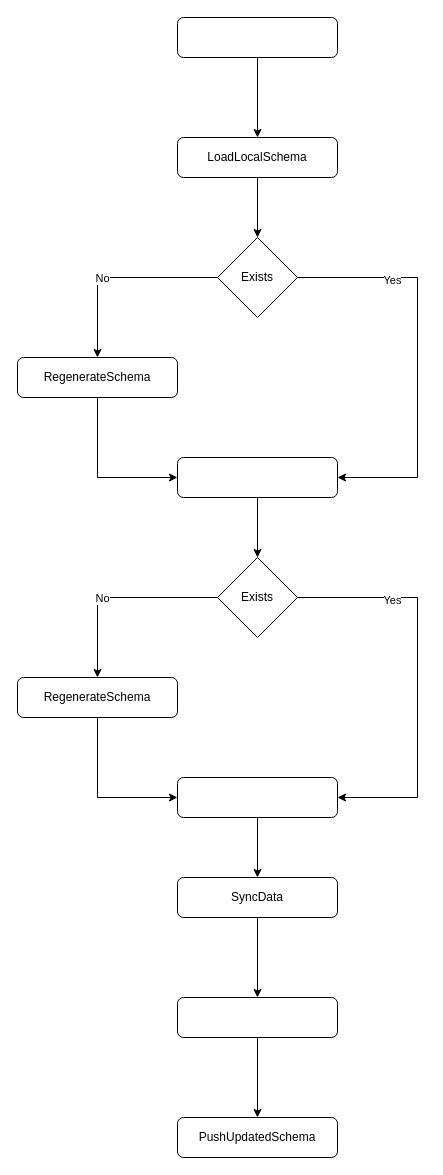
The diagram is 443 pixels wide and 1175 high, and some of its shapes have lost their labels. Here are the shapes that lost their labels. From the top down, the centre of each, then its label:
At (257,37): "Start".
At (257,477): "LoadRemoteSchema".
At (257,797): "CompareSchemas".
At (257,1017): "CreateUpdatedSchema".
